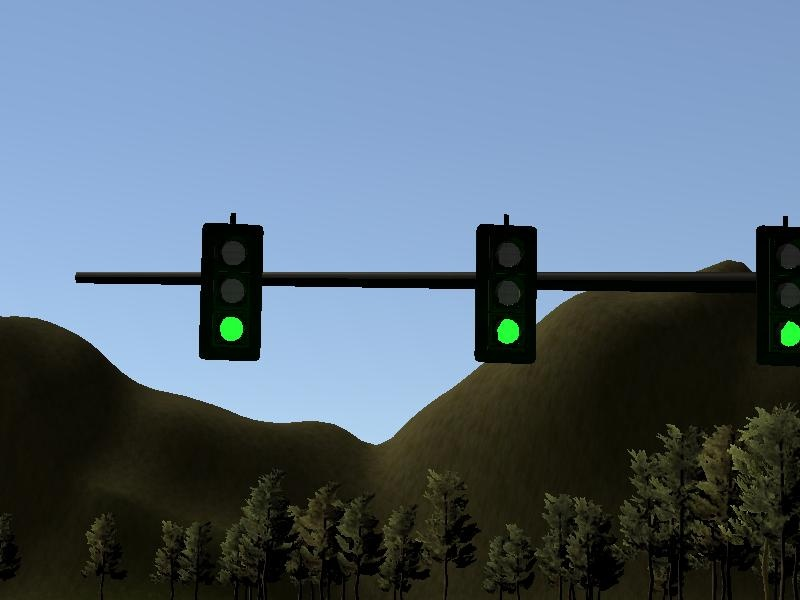GREEN: (198, 221, 262, 361), (473, 223, 536, 364), (754, 224, 800, 366)
